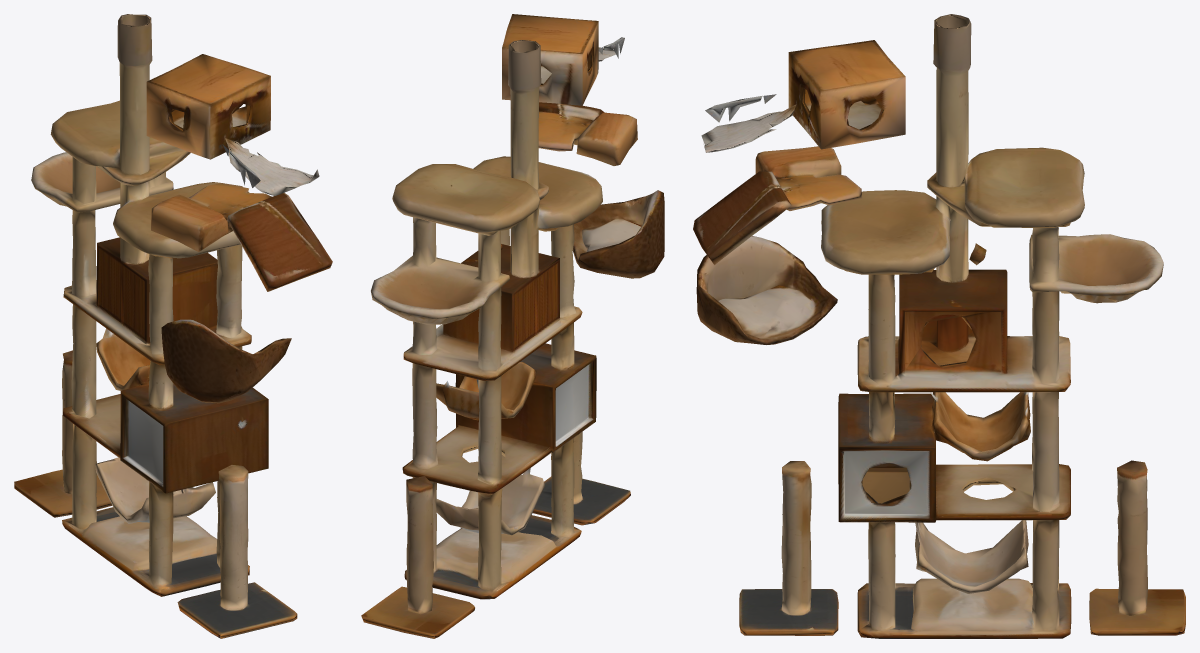
Rendered from tripo_convert_4b6b7f3c-5723-4477-9d43-0126278da43b.fbx.
The picture shows the model from 3 angles, left to right: view 1: azimuth 30°, elevation 25°; view 2: azimuth 150°, elevation 25°; view 3: azimuth 270°, elevation 25°; orthographic projection. The views are drawn at different scales.
Parts seen in each view (by area): view 1: tripo_node_4b6b7f3c; view 2: tripo_node_4b6b7f3c; view 3: tripo_node_4b6b7f3c.
Boxes of the visible parts, bbox=[...] form: tripo_node_4b6b7f3c: bbox=[14, 14, 332, 638]; tripo_node_4b6b7f3c: bbox=[361, 14, 664, 638]; tripo_node_4b6b7f3c: bbox=[693, 14, 1185, 638].
Size of the model in its own units: 0.2798 by 0.9998 by 0.7698.
Materials: 1 (1 with a texture image).
